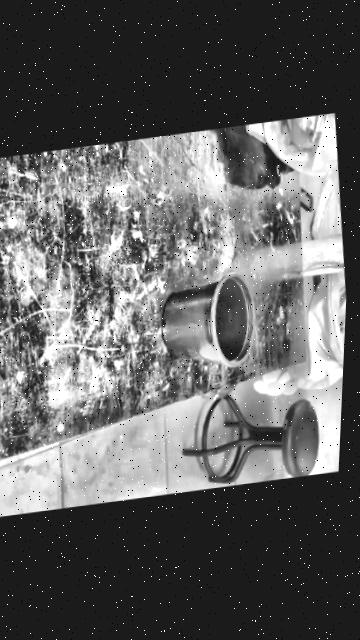pot: (155, 269, 260, 371)
